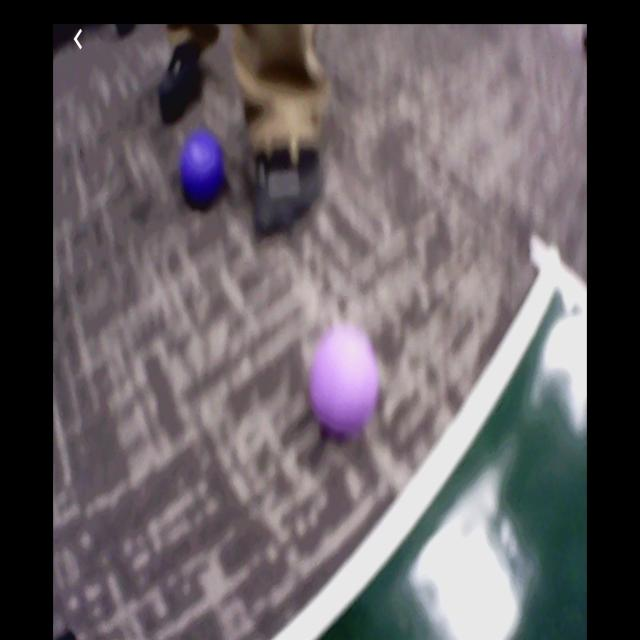ball: (309, 324, 376, 429), (180, 130, 224, 202)
